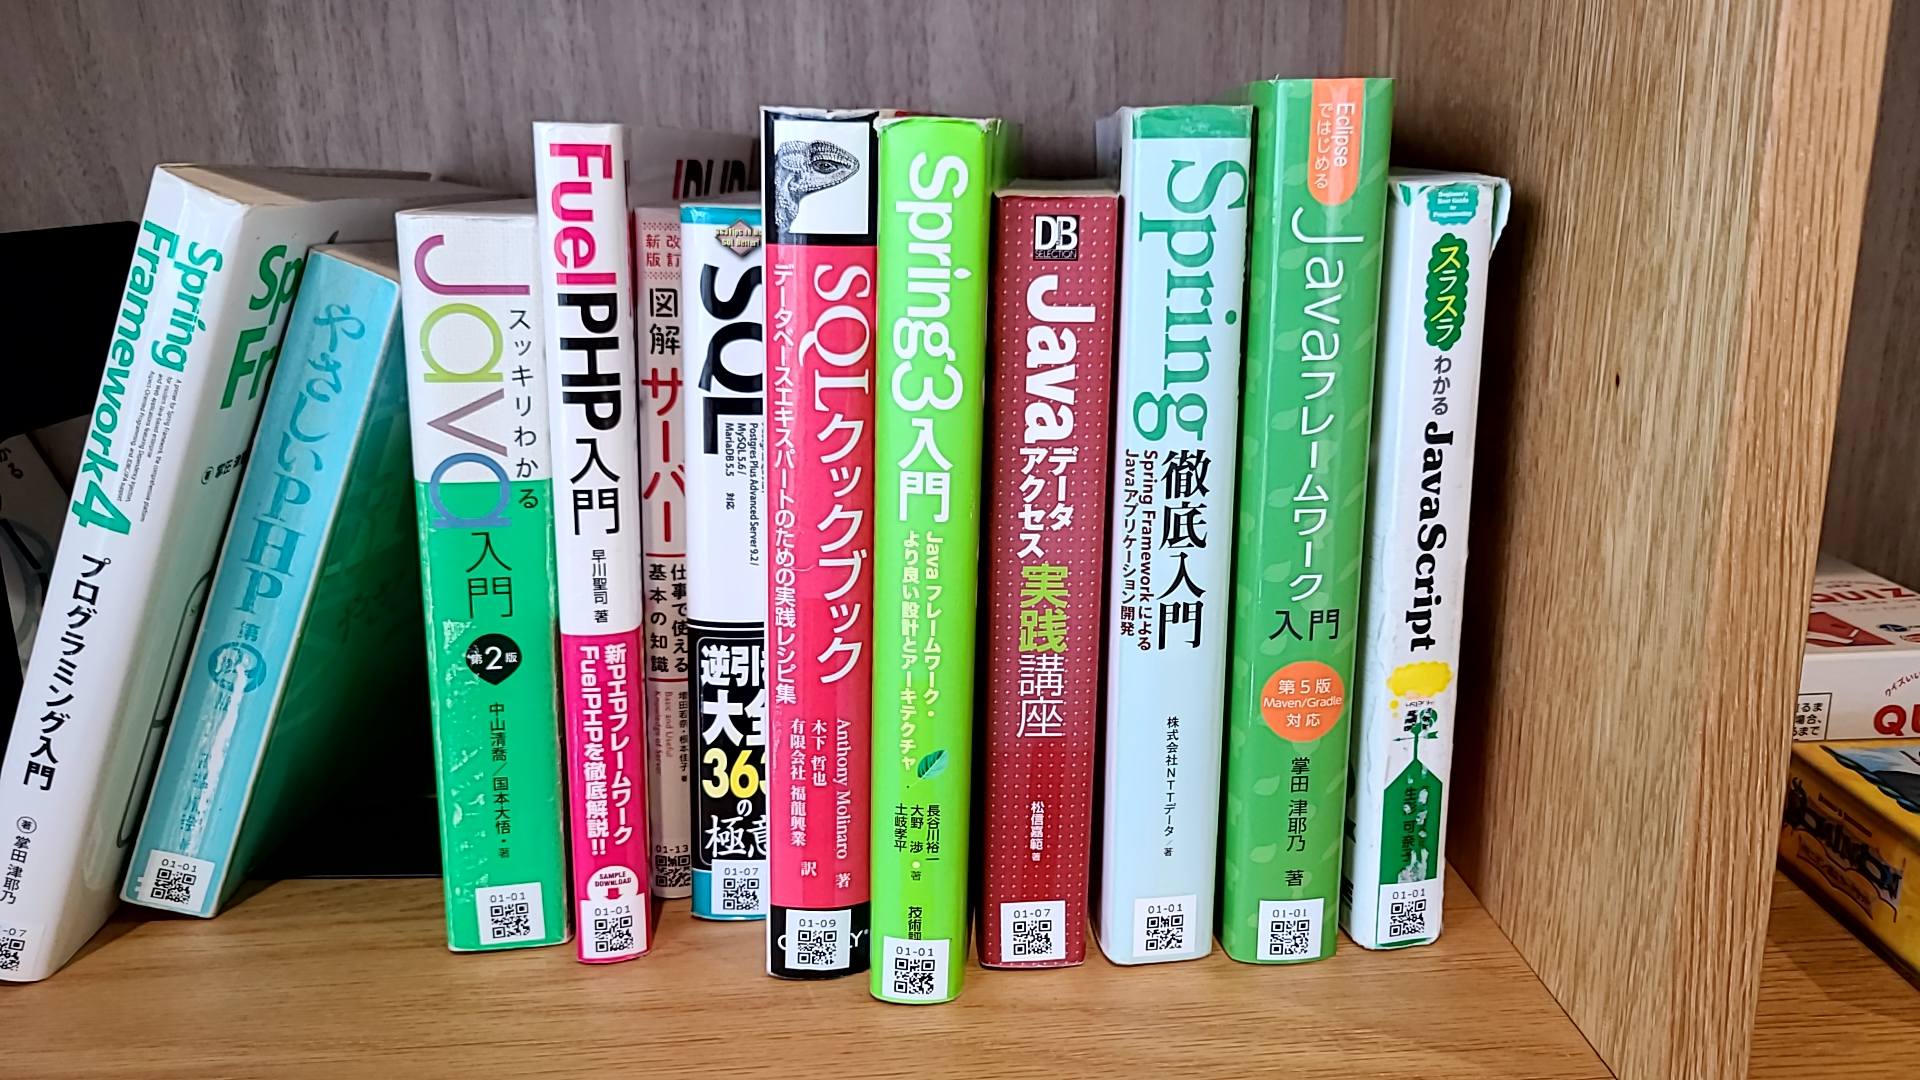book: (1238, 65, 1382, 978), (392, 208, 564, 951), (1112, 100, 1247, 967), (750, 96, 877, 988), (981, 189, 1122, 981), (861, 108, 981, 1004), (1361, 171, 1484, 943), (545, 103, 647, 975), (678, 190, 781, 928), (628, 190, 704, 907)
